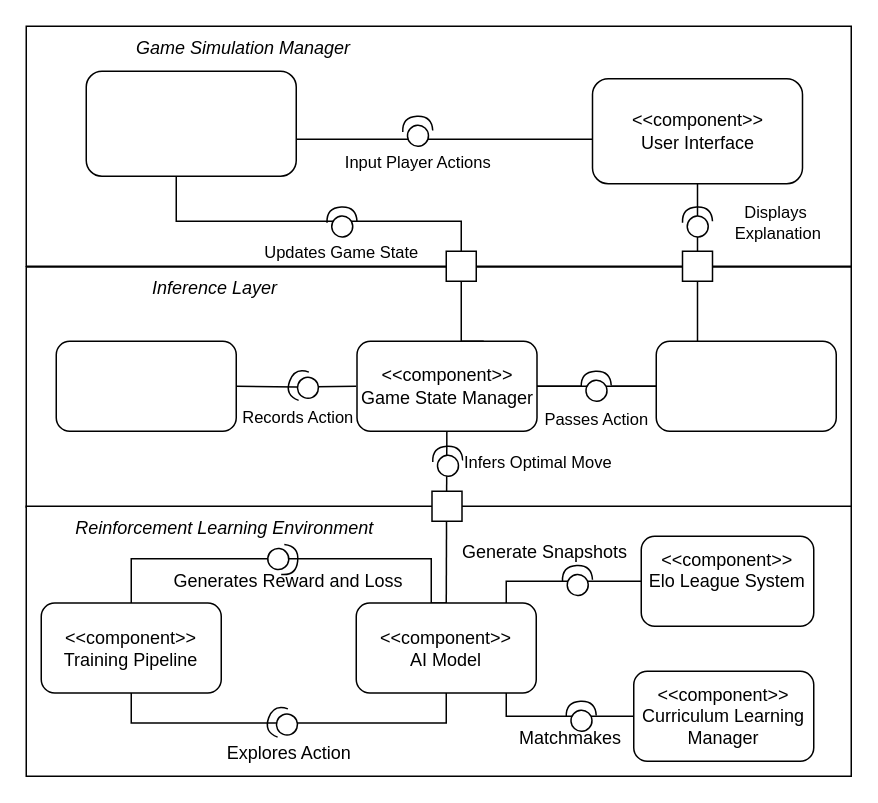
This 878x803 diagram has some shape labels left out. The centre of each missing label's shape, as x and y in pixels:
<<component>> Backend API Server: (x=190, y=123)
<<component>> Explanation Pipeline: (x=745, y=385)
<<component>> Game State Database: (x=145, y=385)
